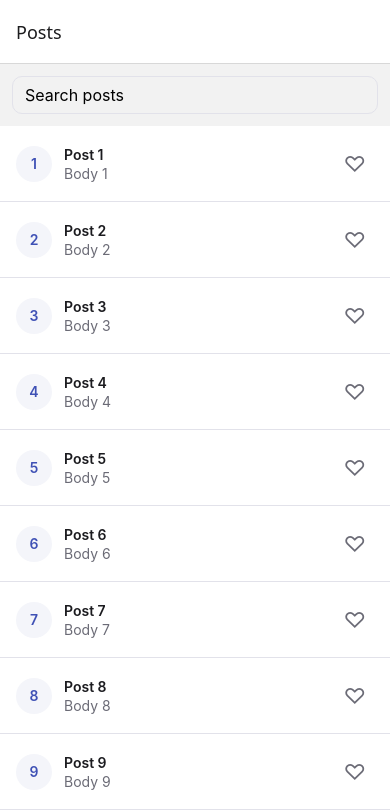
comments failure still shows the post
This screenshot has width=390, height=811.
Click the text "Post 2" at (85, 230), box [64,222,106,238]
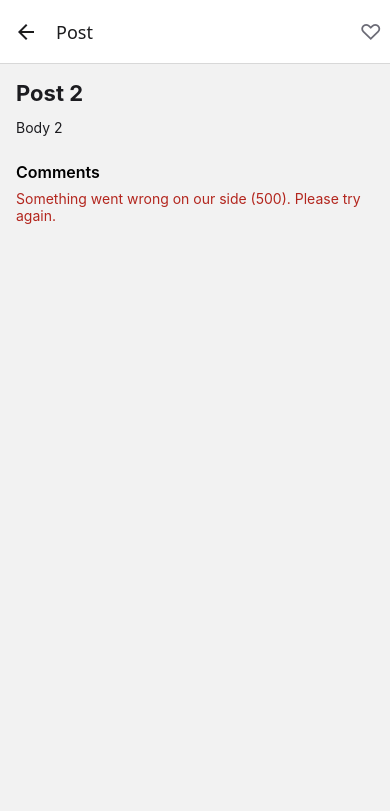
Expected: the text "Body 2" is shown, [16,119,62,136]
Expected: the text "Something went wrong on our side (500). Please try again." is shown, [16,190,374,224]
